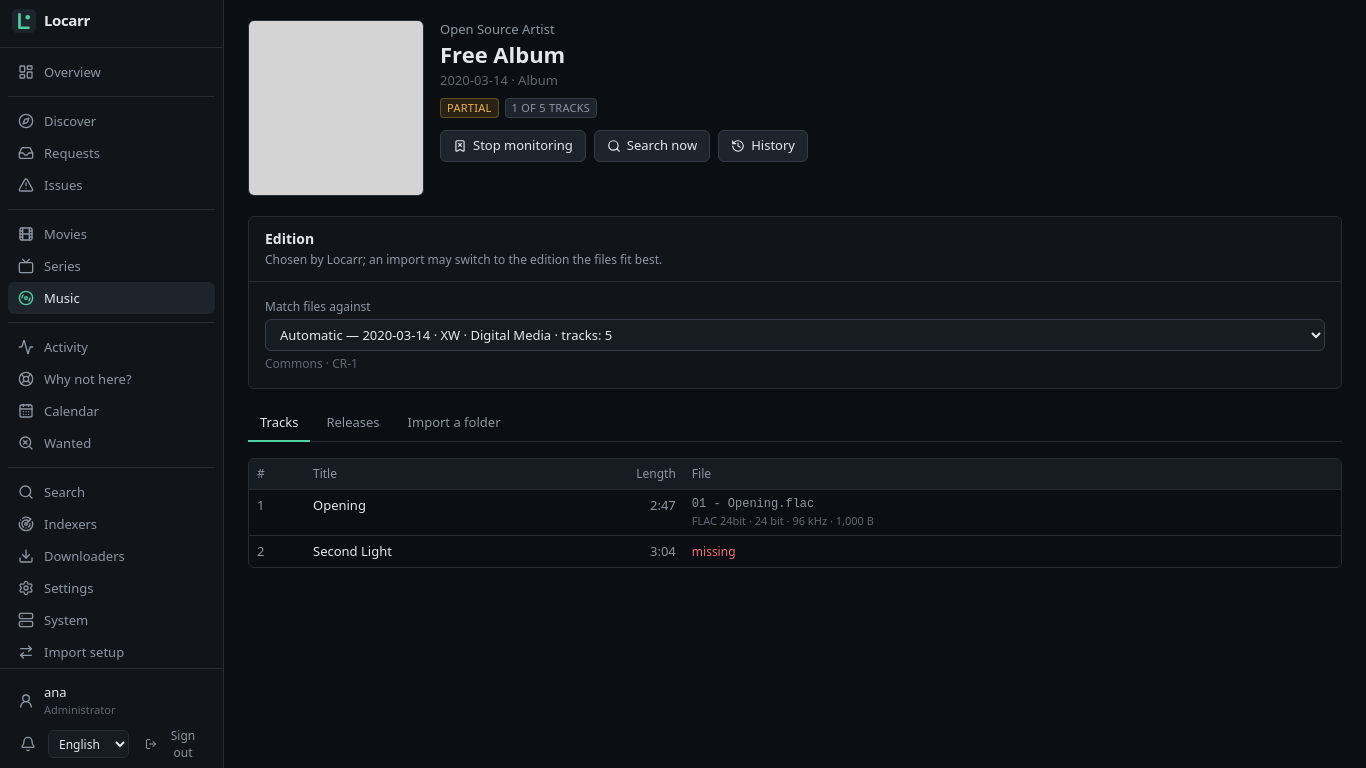
Test: music › shows an album's tracks with files, picks an edition and opens the history drawer
Check: the row with test id "track-row" shows "01 - Opening.flac", box [692,497,814,511]
Check: the row with test id "track-row" shows "FLAC 24bit", box [692,513,874,528]
Step 1. Select "2020-03-14 · GB · 2×CD · tracks: 8 · deluxe edition" in the dropdown with test id "release-picker" → (795,335), box [265,319,1325,351]
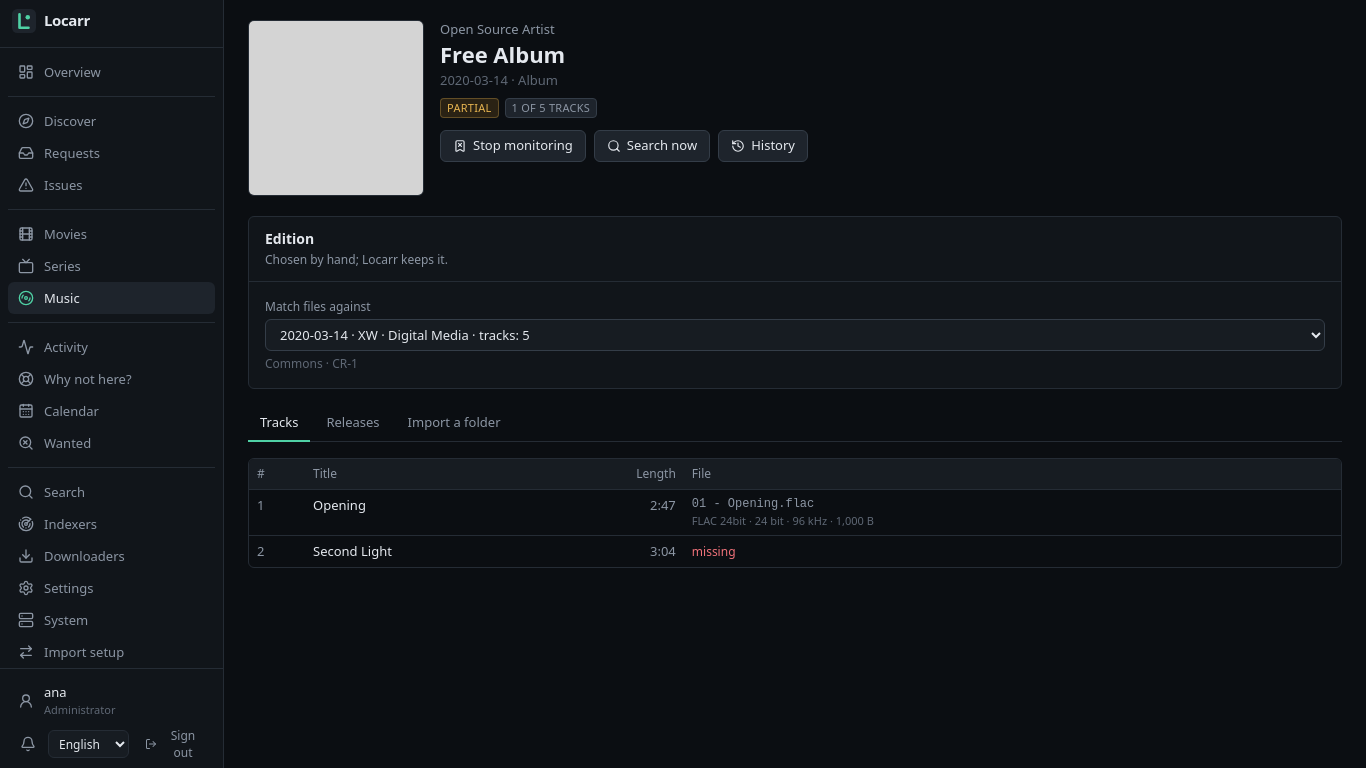
Step 2. Click the button with test id "open-history" → (763,146), box [718,130,808,162]
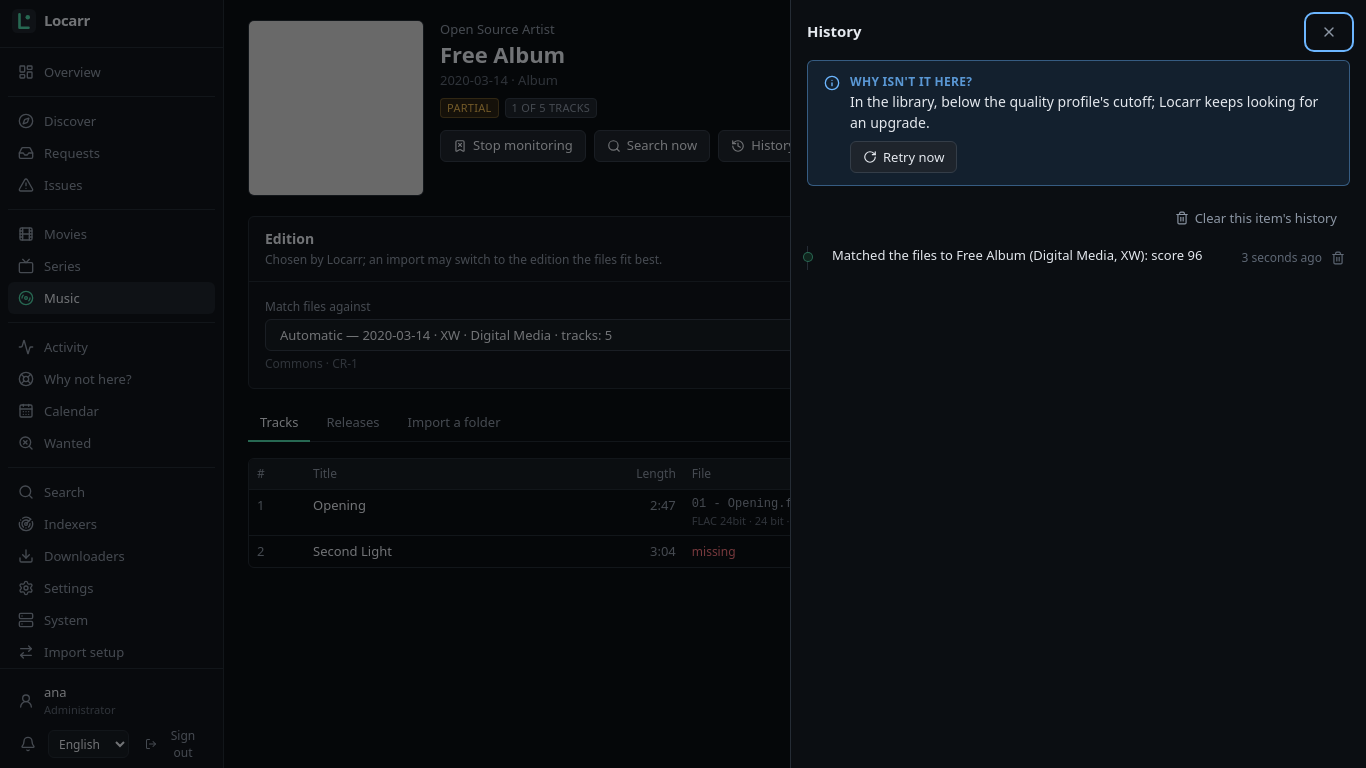
Check: the element with test id "why-box" is shown, box [807,60,1350,186]
Check: the list item with test id "timeline-event" shows "Matched the files to Free Album (Digital Media, XW): score 96", box [832,246,1202,264]
